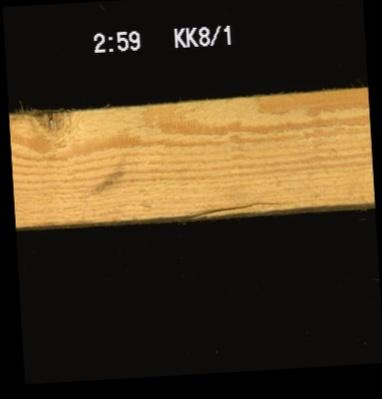edge_knot: (31, 110, 70, 141)
split: (184, 200, 289, 215)
